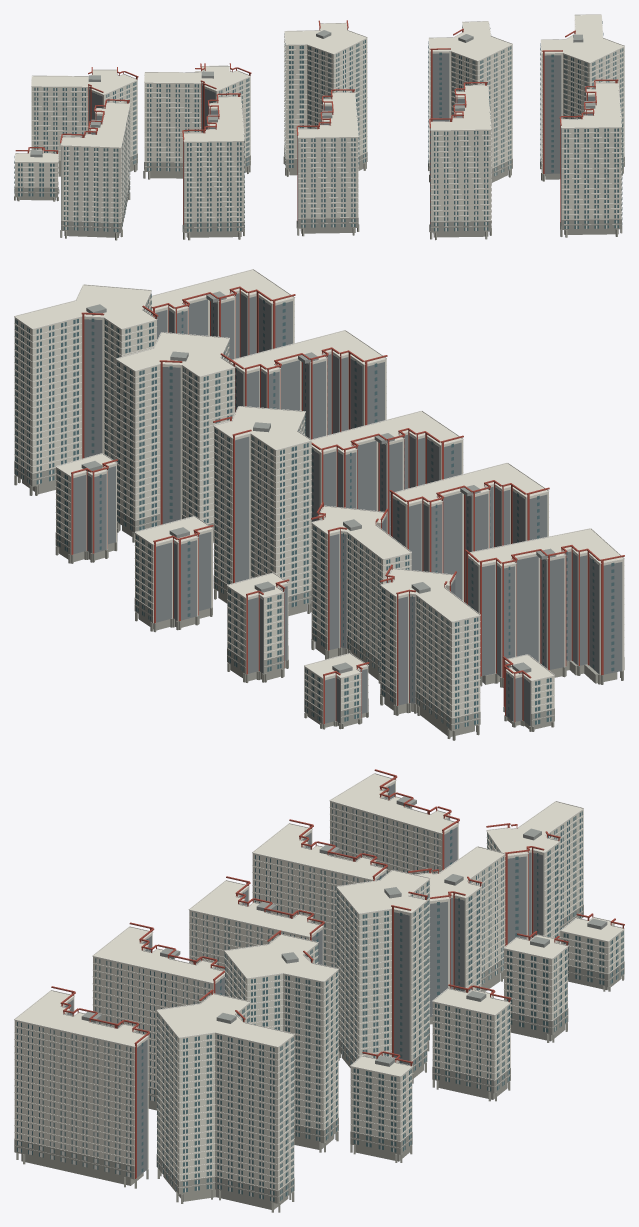
Rendered from representative-a10024828.glb.
3 renders of one model, top to bottom at view 1: azimuth 30°, elevation 25°; view 2: azimuth 150°, elevation 25°; view 3: azimuth 270°, elevation 25°, orthographic. The views are drawn at different scales.
Parts seen in each view (by area): view 1: A10024828_wall001, A10024828_trim001, A10024828_glass001, A10024828_base001, A10024828_accent001, A10024828_red_crown_trim001, A10024828_roof001; view 2: A10024828_wall001, A10024828_accent001, A10024828_glass001, A10024828_trim001, A10024828_red_crown_trim001, A10024828_base001, A10024828_roof001; view 3: A10024828_wall001, A10024828_trim001, A10024828_glass001, A10024828_base001, A10024828_accent001, A10024828_red_crown_trim001, A10024828_roof001.
Boxes of the visible parts, x1=… form: A10024828_wall001: x1=15, y1=15, x2=624, y2=222; A10024828_trim001: x1=14, y1=14, x2=624, y2=231; A10024828_glass001: x1=14, y1=21, x2=623, y2=231; A10024828_base001: x1=14, y1=147, x2=624, y2=240; A10024828_accent001: x1=61, y1=53, x2=595, y2=231; A10024828_red_crown_trim001: x1=15, y1=20, x2=618, y2=224; A10024828_roof001: x1=30, y1=30, x2=595, y2=157; A10024828_wall001: x1=14, y1=270, x2=624, y2=726; A10024828_accent001: x1=73, y1=293, x2=622, y2=725; A10024828_glass001: x1=15, y1=294, x2=614, y2=729; A10024828_trim001: x1=14, y1=269, x2=624, y2=728; A10024828_red_crown_trim001: x1=71, y1=286, x2=624, y2=724; A10024828_base001: x1=14, y1=461, x2=624, y2=740; A10024828_roof001: x1=81, y1=291, x2=556, y2=673; A10024828_wall001: x1=14, y1=774, x2=624, y2=1190; A10024828_trim001: x1=14, y1=773, x2=624, y2=1201; A10024828_glass001: x1=17, y1=786, x2=623, y2=1201; A10024828_base001: x1=14, y1=904, x2=624, y2=1212; A10024828_accent001: x1=64, y1=783, x2=614, y2=1177; A10024828_red_crown_trim001: x1=51, y1=769, x2=624, y2=1178; A10024828_roof001: x1=81, y1=796, x2=607, y2=1066.
Bounding box in the file's own units: 285 × 72.7 × 230.
